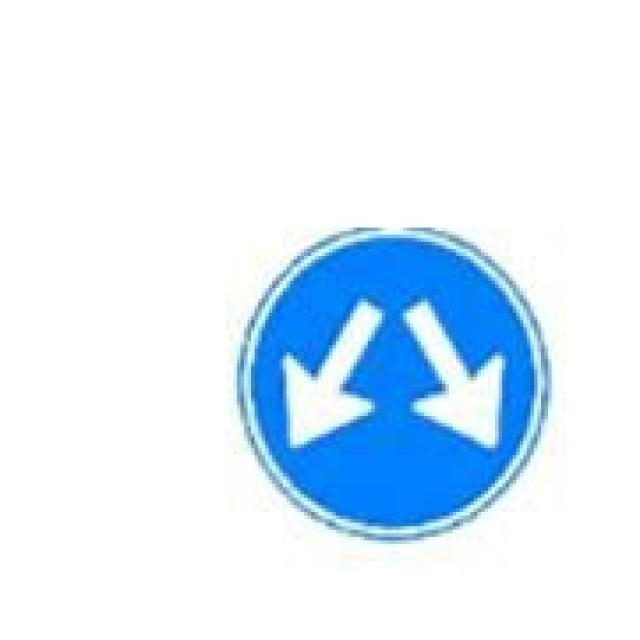PASS_EITHER_SIDE: (243, 215, 544, 548)
